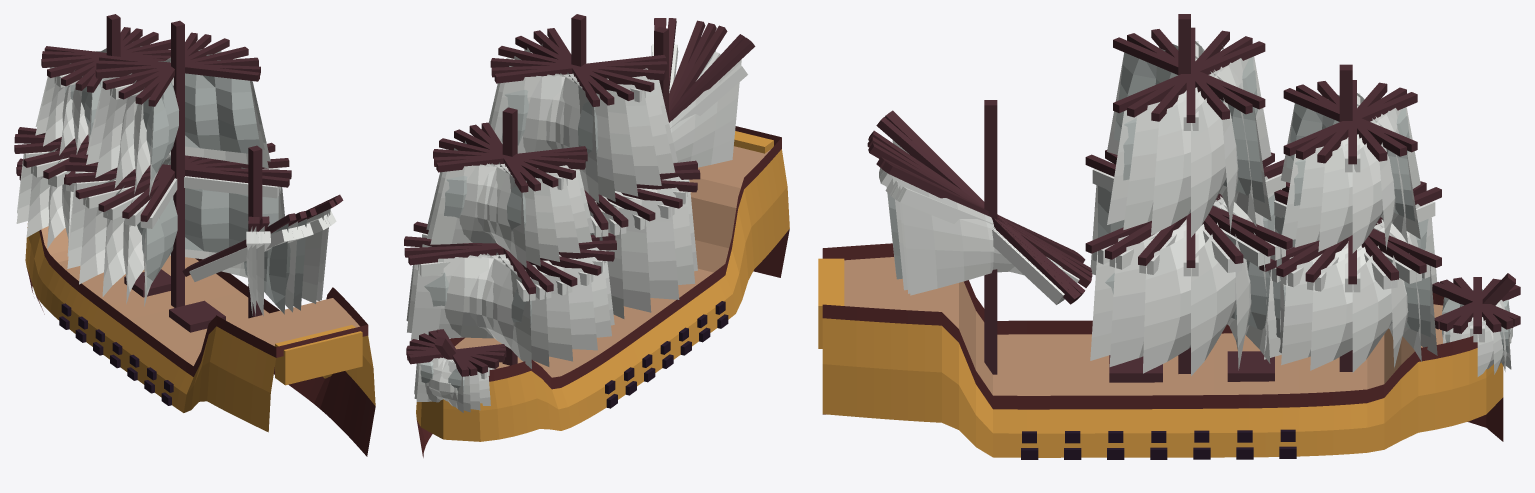
Rendered from ship.treasure_galleon.glb.
3 views of the same model, side by side, from view 1: azimuth 30°, elevation 25°; view 2: azimuth 150°, elevation 25°; view 3: azimuth 270°, elevation 25° (orthographic). The views are drawn at different scales.
Parts seen in each view (by area): view 1: hull, bulwark, gallery, main, full_irons_p0_main_top, full_irons_p1_main_course, full_irons_p1_main_top, full_run_main_course, full_irons_p0_main_course, full_run_main_top, full_broad_s_main_course, mizzen (+53 smaller); view 2: hull, bulwark, full_close_s_lateen, full_beam_s_fore_course, full_beam_p_fore_course, full_run_main_course, full_broad_p_main_top, full_beam_s_main_top, full_beam_p_main_top, full_broad_p_main_course, full_broad_p_fore_course, full_run_main_top (+61 smaller); view 3: hull, bulwark, full_close_p_lateen, full_broad_p_main_course, full_broad_p_main_top, full_run_main_course, full_beam_p_main_course, full_broad_p_fore_course, full_run_main_top, full_beam_p_main_top, mizzen, full_run_fore_course (+54 smaller).
Part boxes in pixels (x1=…): hull: x1=25, y1=223, x2=375, y2=456; bulwark: x1=39, y1=230, x2=368, y2=376; gallery: x1=275, y1=325, x2=362, y2=385; main: x1=171, y1=20, x2=184, y2=307; full_irons_p0_main_top: x1=143, y1=75, x2=260, y2=153; full_irons_p1_main_course: x1=185, y1=188, x2=228, y2=252; full_irons_p1_main_top: x1=136, y1=73, x2=220, y2=150; full_run_main_course: x1=79, y1=160, x2=170, y2=284; full_irons_p0_main_course: x1=137, y1=193, x2=278, y2=251; full_run_main_top: x1=95, y1=54, x2=212, y2=177; full_broad_s_main_course: x1=102, y1=158, x2=170, y2=296; mizzen: x1=248, y1=145, x2=262, y2=318; hull: x1=416, y1=146, x2=789, y2=457; bulwark: x1=450, y1=126, x2=781, y2=389; full_close_s_lateen: x1=669, y1=59, x2=741, y2=167; full_beam_s_fore_course: x1=407, y1=247, x2=614, y2=338; full_beam_p_fore_course: x1=486, y1=253, x2=549, y2=366; full_run_main_course: x1=602, y1=196, x2=679, y2=299; full_broad_p_main_top: x1=524, y1=47, x2=638, y2=196; full_beam_s_main_top: x1=490, y1=68, x2=677, y2=162; full_beam_p_main_top: x1=540, y1=44, x2=615, y2=201; full_broad_p_main_course: x1=595, y1=201, x2=651, y2=312; full_broad_p_fore_course: x1=482, y1=254, x2=572, y2=361; full_run_main_top: x1=514, y1=56, x2=661, y2=185; hull: x1=822, y1=257, x2=1503, y2=457; bulwark: x1=822, y1=243, x2=1477, y2=409; full_close_p_lateen: x1=899, y1=179, x2=994, y2=295; full_broad_p_main_course: x1=1143, y1=202, x2=1227, y2=373; full_broad_p_main_top: x1=1151, y1=45, x2=1223, y2=235; full_run_main_course: x1=1191, y1=196, x2=1236, y2=375; full_beam_p_main_course: x1=1109, y1=202, x2=1262, y2=366; full_broad_p_fore_course: x1=1310, y1=228, x2=1403, y2=370; full_run_main_top: x1=1191, y1=41, x2=1226, y2=237; full_beam_p_main_top: x1=1123, y1=62, x2=1241, y2=229; mizzen: x1=984, y1=100, x2=997, y2=374; full_run_fore_course: x1=1352, y1=219, x2=1392, y2=372.
Size of the model in its own units: 1.32 by 2.18 by 3.26.
